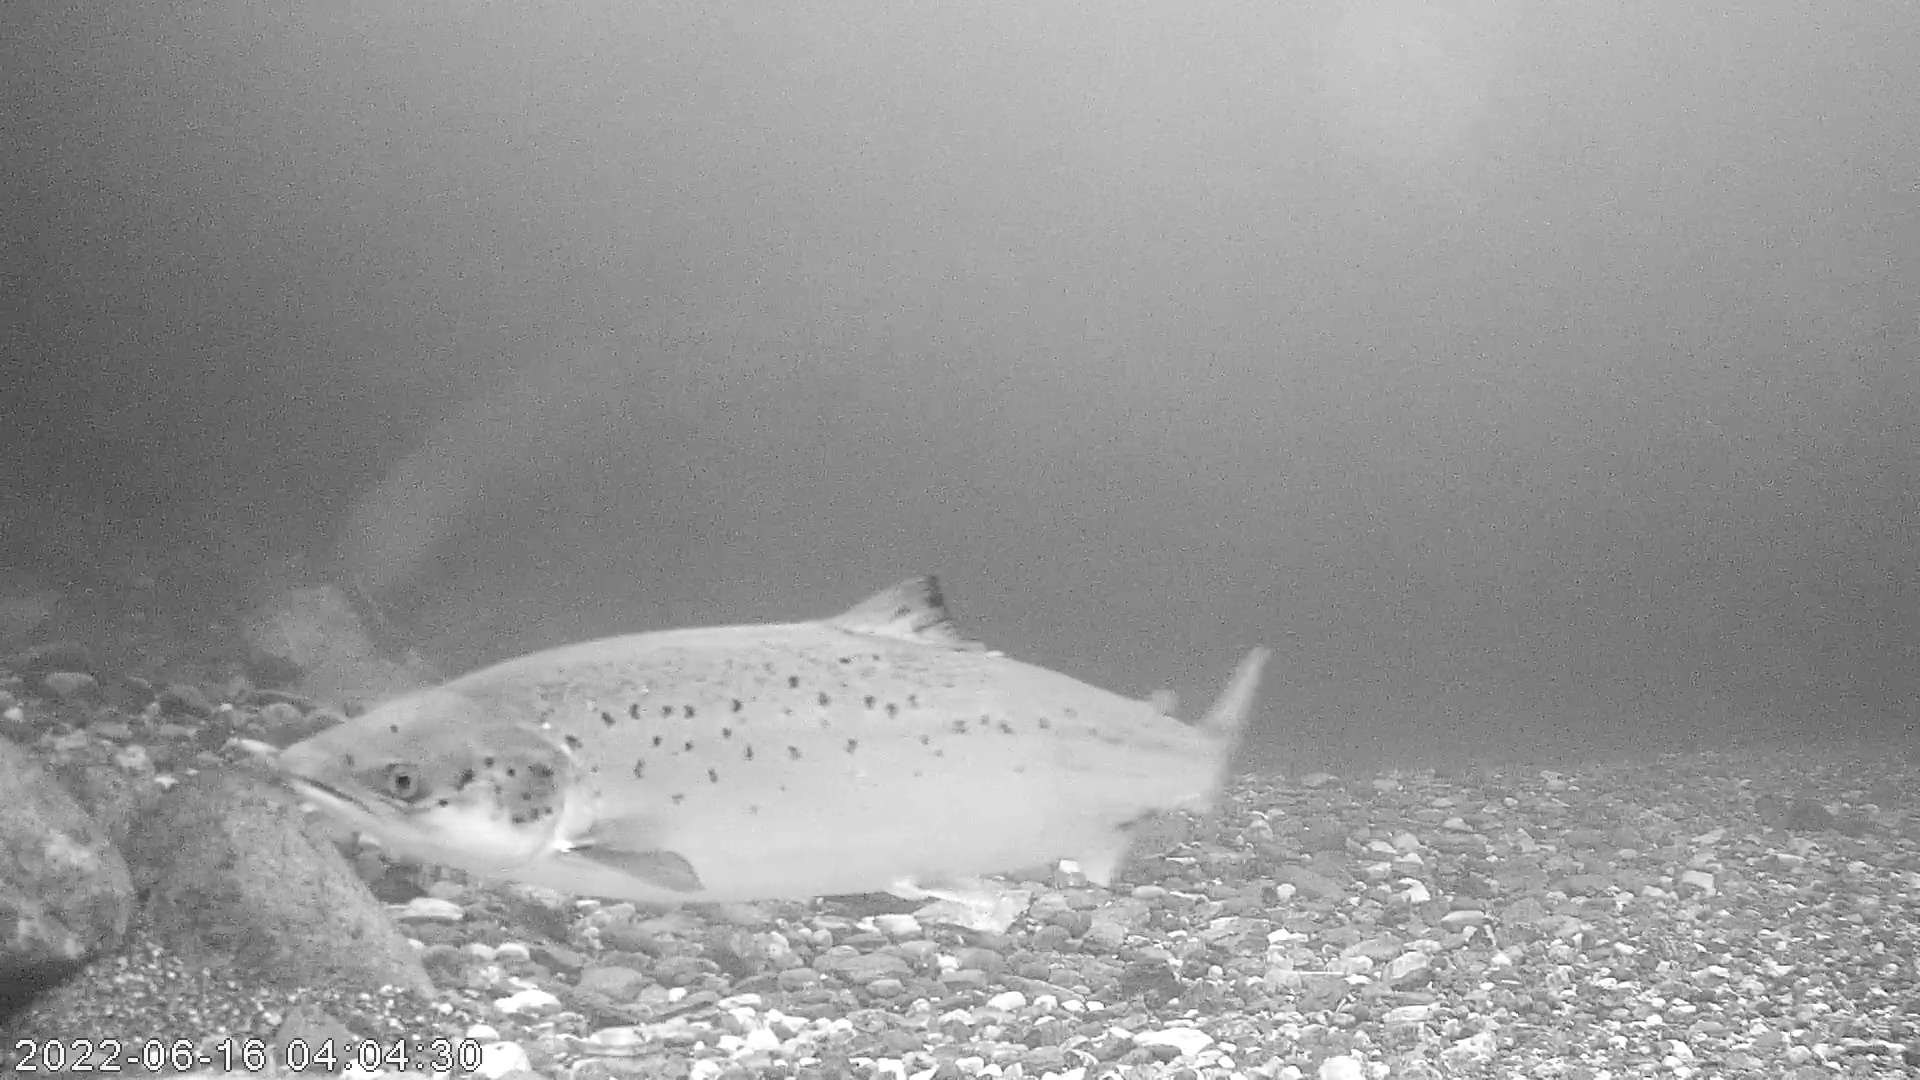salmon: (276, 572, 1275, 907)
